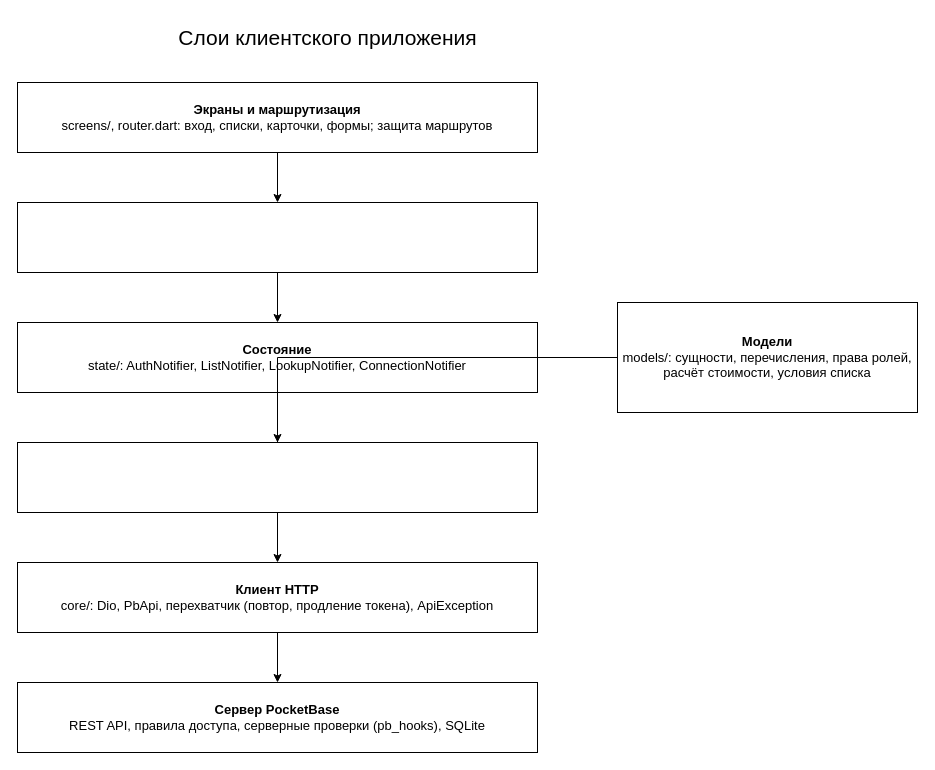
Some shapes in this 935 by 770 pixel diagram are drawn without their labels. The shapes that lost their labels are listed below. From the top down, each one's centre as x and y in pixels, then its label:
point (277, 237): Виджеты widgets/: навигация, таблица и карточки, поля формы, постраничный вывод
point (277, 477): Репозитории repositories/: интерфейс EntityRepository, реализация PbRepository
